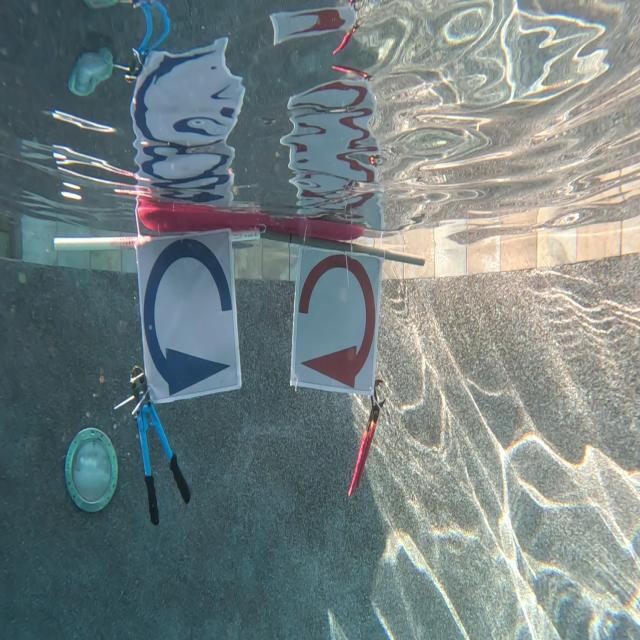blue_side: (137, 237, 241, 398)
red_side: (290, 245, 374, 386)
